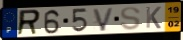5: (71, 7, 89, 34)
6: (43, 9, 61, 35)
K: (145, 6, 163, 30)
R: (16, 8, 42, 36)
S: (119, 6, 142, 32)
V: (91, 7, 116, 33)
